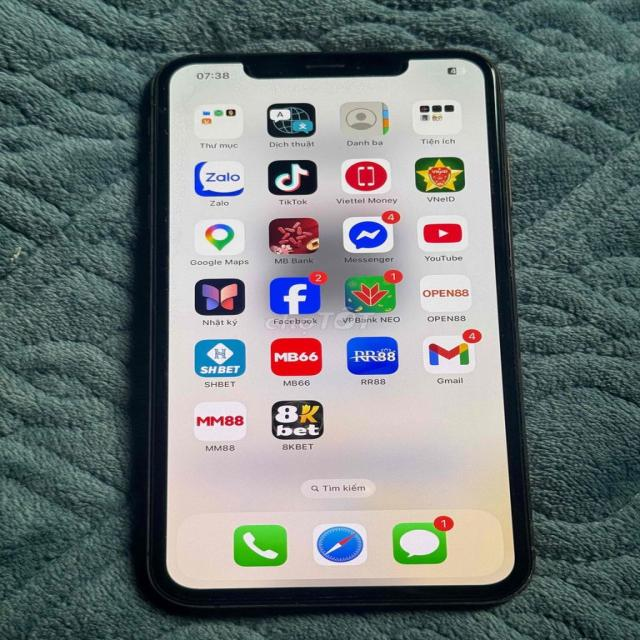scratch: (148, 72, 172, 152), (512, 573, 538, 603), (174, 50, 210, 68)
